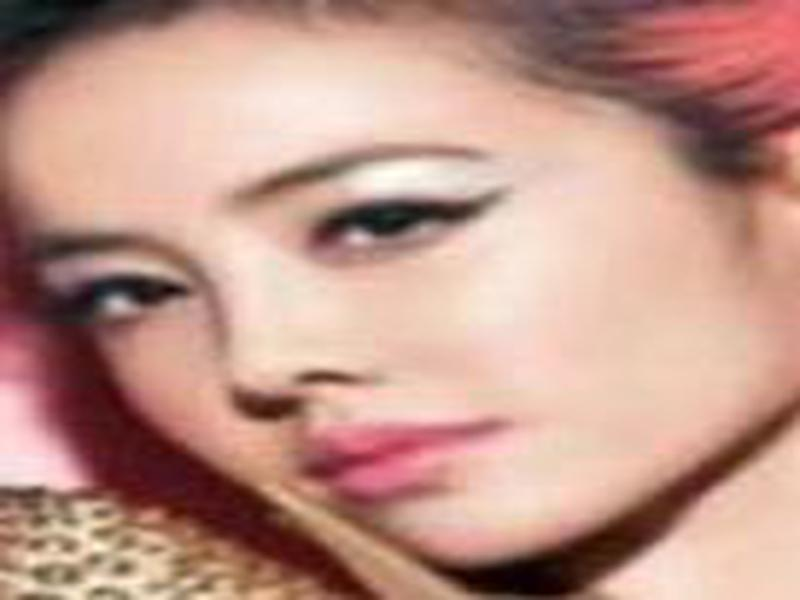without_mask: (1, 34, 797, 572)
